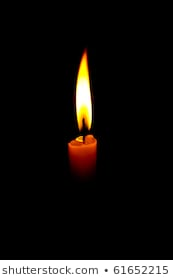Fire: (75, 47, 94, 134)
